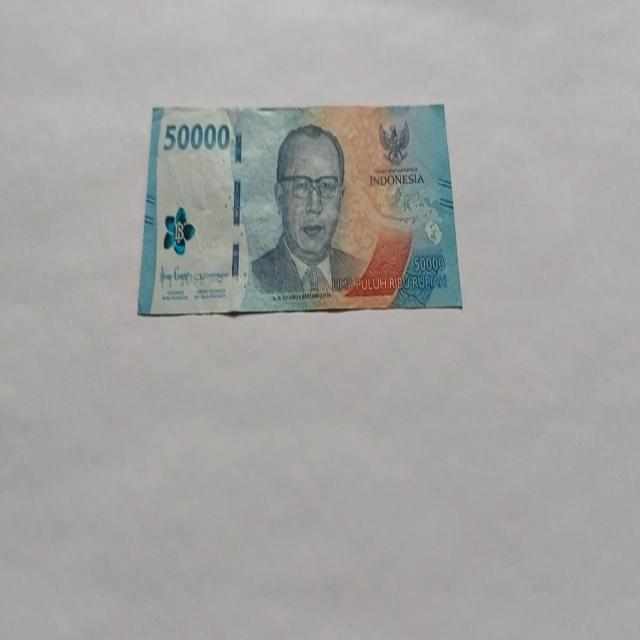lima puluh ribu rupiah: (137, 102, 463, 318), (248, 122, 366, 300)
